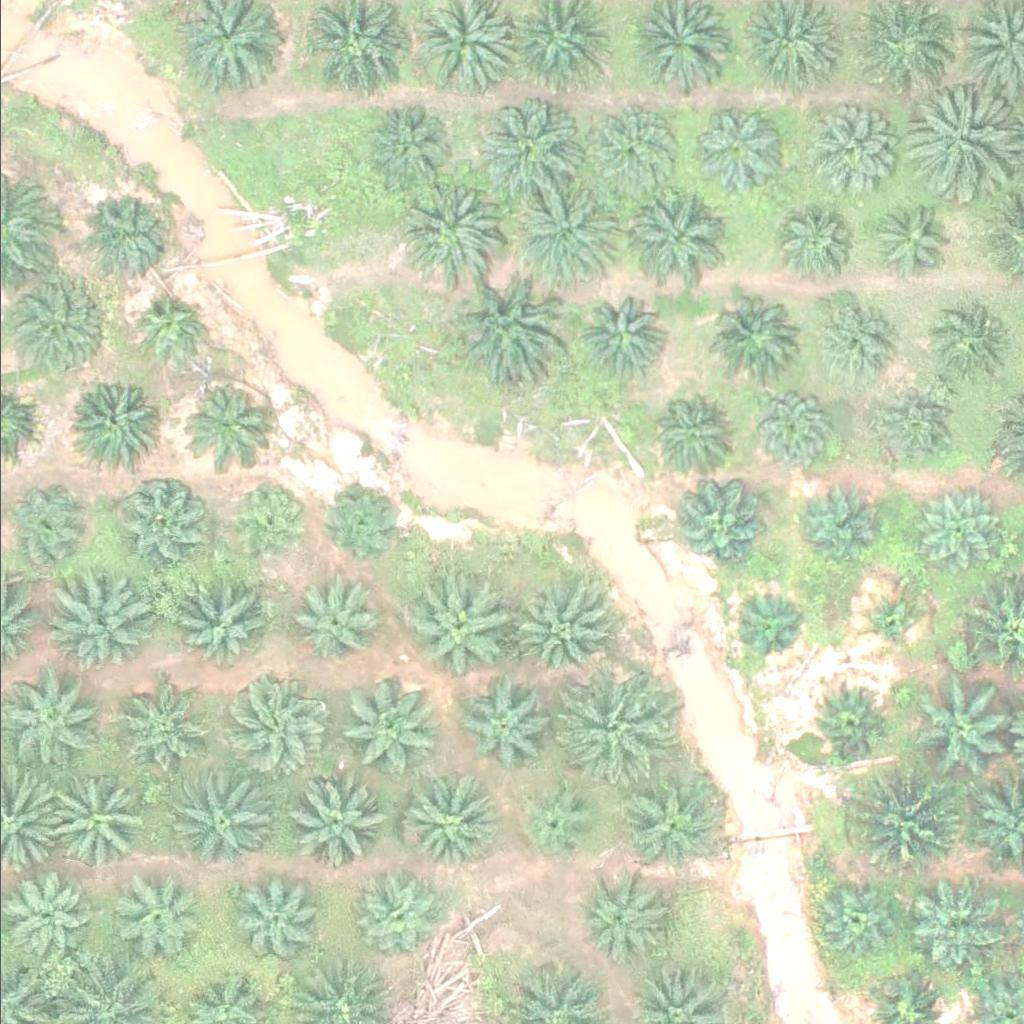Kelapa_Sawit: (553, 671, 667, 784), (449, 269, 562, 382), (904, 87, 1018, 199), (904, 680, 1017, 792), (852, 771, 965, 883), (512, 172, 625, 284), (618, 776, 719, 876), (895, 871, 996, 971), (38, 776, 139, 876), (224, 676, 325, 776), (283, 568, 384, 668), (400, 178, 501, 278), (483, 103, 584, 203), (686, 103, 786, 203), (622, 189, 722, 289), (164, 574, 264, 674), (48, 577, 148, 677), (10, 276, 110, 376), (398, 772, 498, 872), (285, 772, 385, 872), (170, 771, 270, 871), (340, 680, 440, 780), (510, 584, 610, 684), (404, 575, 504, 675), (766, 194, 855, 282), (590, 108, 679, 196), (913, 300, 1001, 388), (907, 487, 995, 575), (668, 484, 756, 572), (107, 867, 195, 955), (106, 690, 194, 778), (219, 478, 307, 566), (1, 482, 89, 570), (81, 191, 169, 279), (576, 877, 664, 965), (641, 389, 729, 476), (748, 384, 836, 471), (869, 384, 957, 471), (860, 191, 948, 278), (809, 294, 897, 381), (709, 290, 797, 377), (797, 110, 885, 197), (801, 482, 889, 569), (808, 880, 896, 967), (118, 480, 206, 567), (177, 382, 265, 469), (72, 378, 160, 465), (232, 874, 320, 961), (355, 871, 443, 958), (455, 681, 543, 768), (318, 480, 406, 567), (572, 295, 660, 382), (365, 104, 453, 191), (127, 294, 203, 369), (812, 682, 888, 757), (518, 785, 594, 860), (730, 588, 805, 663), (853, 589, 916, 652)
